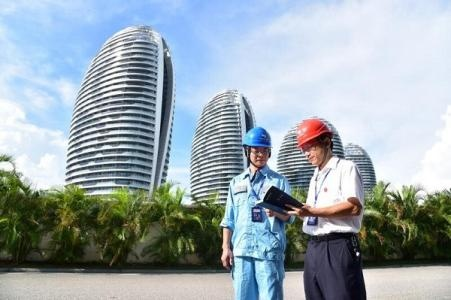blue: (239, 126, 276, 170)
red: (293, 118, 334, 167)
